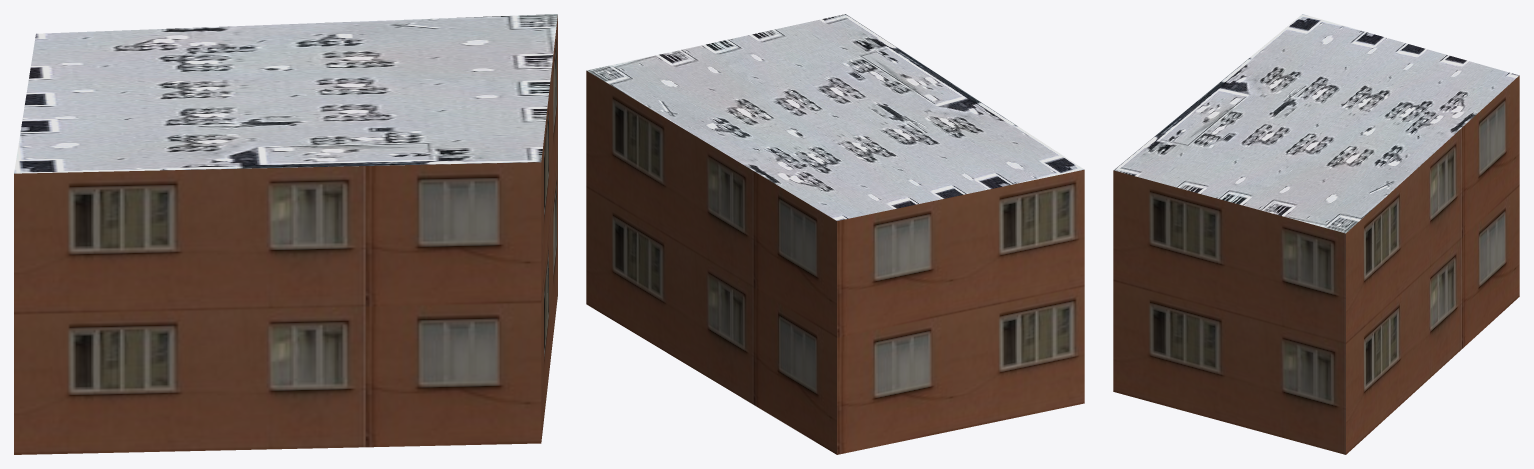
The model's file is ResTex__2595.fbx.
The picture shows the model from 3 angles, left to right: view 1: azimuth 30°, elevation 25°; view 2: azimuth 150°, elevation 25°; view 3: azimuth 270°, elevation 25°; orthographic projection. The views are drawn at different scales.
Parts seen in each view (by area): view 1: CityEngineMaterial_20_m, CityEngineMaterial_m; view 2: CityEngineMaterial_20_m, CityEngineMaterial_m; view 3: CityEngineMaterial_20_m, CityEngineMaterial_m.
Part boxes in pixels (x1,y1,x2,y2): CityEngineMaterial_20_m: (14, 15, 557, 454); CityEngineMaterial_m: (14, 14, 557, 173); CityEngineMaterial_20_m: (586, 70, 1084, 454); CityEngineMaterial_m: (587, 14, 1083, 220); CityEngineMaterial_20_m: (1113, 75, 1519, 454); CityEngineMaterial_m: (1113, 14, 1518, 233).
Size of the model in its own units: 12.76 by 6 by 9.97.
Materials: 2 (2 with a texture image).
